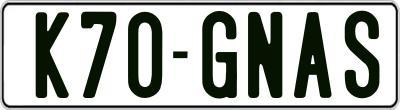0: (128, 12, 165, 101)
7: (81, 9, 122, 99)
A: (291, 12, 331, 98)
G: (200, 8, 235, 97)
K: (33, 9, 72, 98)
N: (245, 12, 279, 99)
S: (342, 9, 378, 99)
